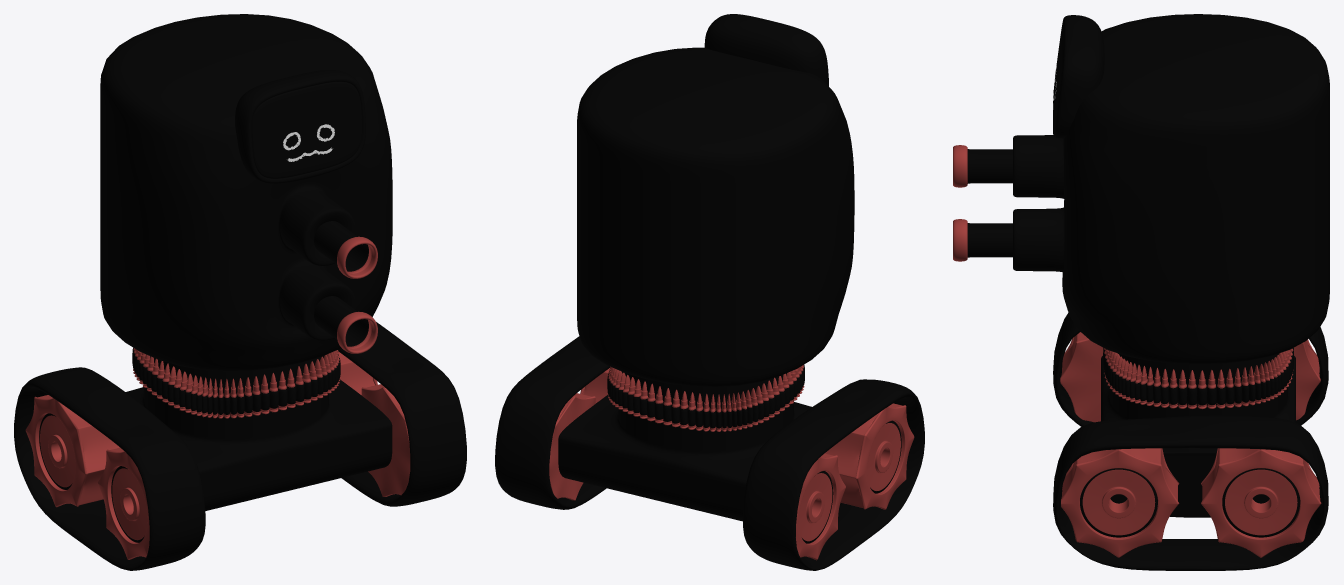
The model's file is TRT.fbx.
3 views of the same model, side by side, from view 1: azimuth 30°, elevation 25°; view 2: azimuth 150°, elevation 25°; view 3: azimuth 270°, elevation 25° (orthographic). The views are drawn at different scales.
Parts seen in each view (by area): view 1: TRT_BaseBody, TRT_WheelBelt, BulletBelt, TRT_BackWheel, TRT_FrontWheel, TRT_LowerBarrel, TRT_UpperBarrel; view 2: TRT_BaseBody, TRT_WheelBelt, BulletBelt, TRT_FrontWheel, TRT_BackWheel; view 3: TRT_BaseBody, TRT_WheelBelt, TRT_FrontWheel, TRT_BackWheel, BulletBelt, TRT_LowerBarrel, TRT_UpperBarrel.
Part boxes in pixels (bbox=[...]): TRT_BaseBody: bbox=[100, 14, 392, 510]; TRT_WheelBelt: bbox=[14, 322, 466, 570]; BulletBelt: bbox=[132, 347, 340, 418]; TRT_BackWheel: bbox=[25, 351, 377, 507]; TRT_FrontWheel: bbox=[97, 384, 410, 559]; TRT_LowerBarrel: bbox=[314, 296, 377, 353]; TRT_UpperBarrel: bbox=[314, 221, 377, 278]; TRT_BaseBody: bbox=[558, 14, 854, 521]; TRT_WheelBelt: bbox=[495, 336, 924, 570]; BulletBelt: bbox=[607, 364, 804, 431]; TRT_FrontWheel: bbox=[580, 368, 914, 509]; TRT_BackWheel: bbox=[549, 393, 845, 560]; TRT_BaseBody: bbox=[1013, 14, 1329, 517]; TRT_WheelBelt: bbox=[1053, 312, 1328, 570]; TRT_FrontWheel: bbox=[1060, 332, 1179, 557]; TRT_BackWheel: bbox=[1201, 339, 1321, 557]; BulletBelt: bbox=[1103, 348, 1294, 409]; TRT_LowerBarrel: bbox=[953, 219, 1012, 261]; TRT_UpperBarrel: bbox=[953, 145, 1012, 187].
Size of the model in its own units: 252 by 359 by 263.
